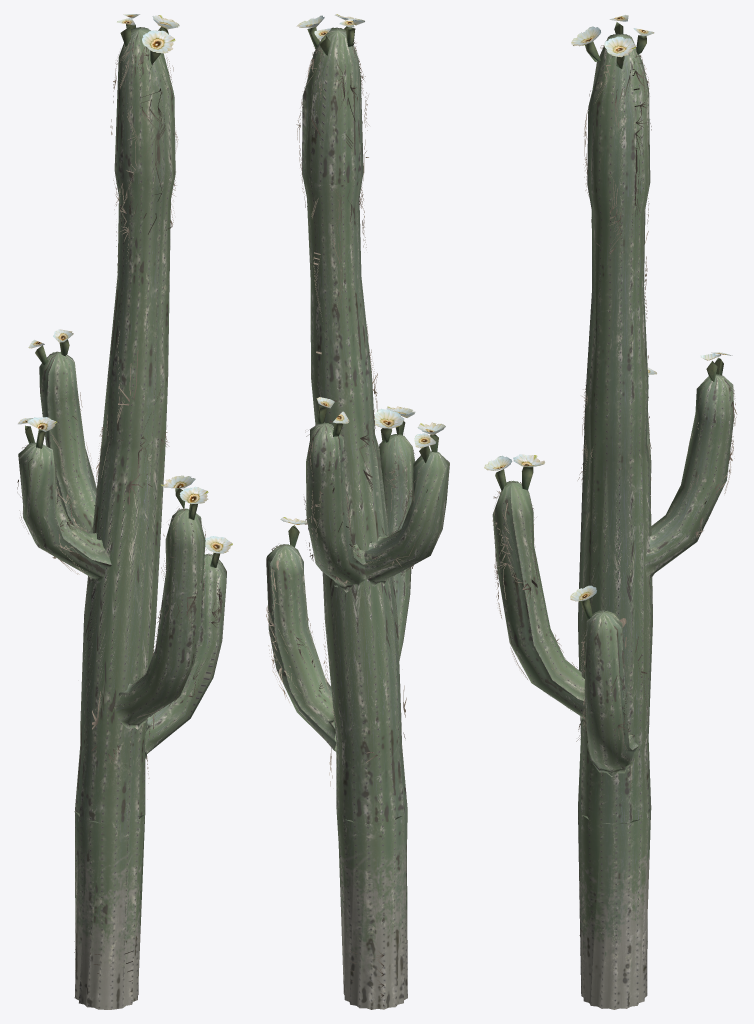
Rendered from kaktus_bily.glb.
The picture shows the model from 3 angles, left to right: view 1: azimuth 30°, elevation 25°; view 2: azimuth 150°, elevation 25°; view 3: azimuth 270°, elevation 25°; orthographic projection. The views are drawn at different scales.
Parts seen in each view (by area): view 1: cactus_0_cactus_0Mat_0, cactus blend_1_cactus blend_1Mat_0, spines 01_6_spines 01_6Mat_0, saguaro flower_7_saguaro flower_7Mat_0, saguaro stem_2_saguaro stem_2Mat_0; view 2: cactus_0_cactus_0Mat_0, cactus blend_1_cactus blend_1Mat_0, spines 01_6_spines 01_6Mat_0, saguaro flower_7_saguaro flower_7Mat_0, saguaro stem_2_saguaro stem_2Mat_0; view 3: cactus_0_cactus_0Mat_0, cactus blend_1_cactus blend_1Mat_0, spines 01_6_spines 01_6Mat_0, saguaro flower_7_saguaro flower_7Mat_0, saguaro stem_2_saguaro stem_2Mat_0.
Boxes of the visible parts, bbox=[...] form: cactus_0_cactus_0Mat_0: bbox=[18, 27, 226, 824]; cactus blend_1_cactus blend_1Mat_0: bbox=[74, 811, 145, 1009]; spines 01_6_spines 01_6Mat_0: bbox=[17, 38, 224, 1000]; saguaro flower_7_saguaro flower_7Mat_0: bbox=[18, 14, 232, 553]; saguaro stem_2_saguaro stem_2Mat_0: bbox=[25, 24, 219, 567]; cactus_0_cactus_0Mat_0: bbox=[266, 27, 449, 823]; cactus blend_1_cactus blend_1Mat_0: bbox=[336, 809, 407, 1009]; spines 01_6_spines 01_6Mat_0: bbox=[266, 40, 449, 1006]; saguaro flower_7_saguaro flower_7Mat_0: bbox=[280, 14, 445, 524]; saguaro stem_2_saguaro stem_2Mat_0: bbox=[288, 26, 438, 547]; cactus_0_cactus_0Mat_0: bbox=[492, 33, 734, 824]; cactus blend_1_cactus blend_1Mat_0: bbox=[578, 808, 651, 1009]; spines 01_6_spines 01_6Mat_0: bbox=[492, 45, 737, 986]; saguaro flower_7_saguaro flower_7Mat_0: bbox=[484, 15, 732, 601]; saguaro stem_2_saguaro stem_2Mat_0: bbox=[495, 22, 723, 619].
Bounding box in the file's own units: 0.8221 × 3.92 × 0.93.
5 materials, 5 textured.
